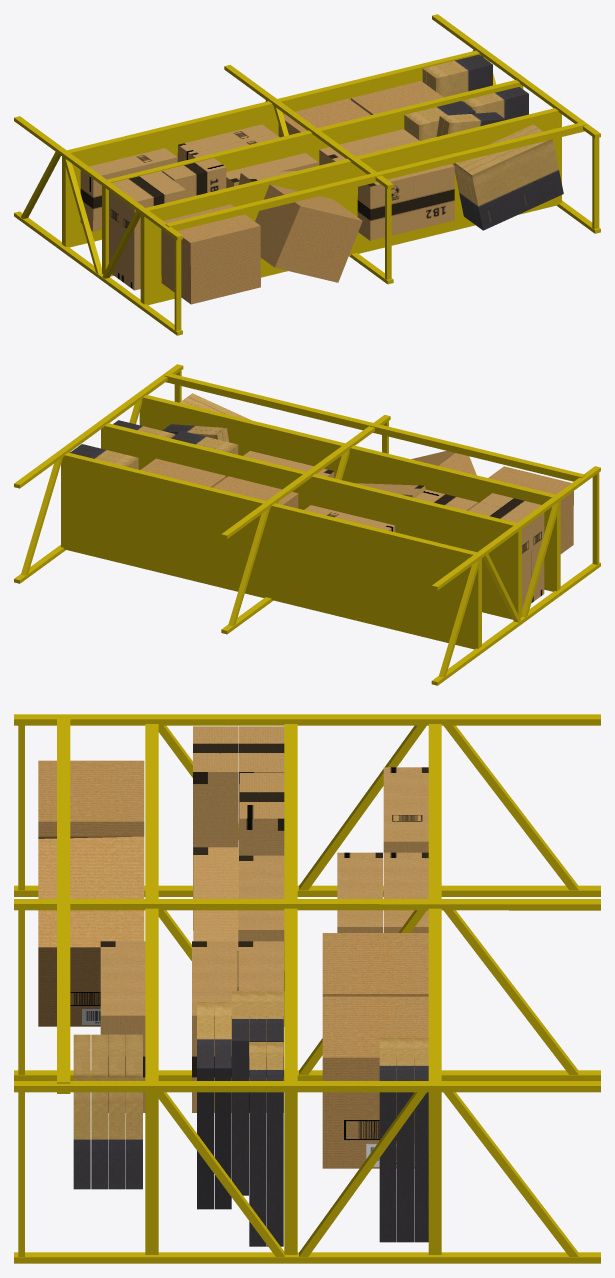
The model's file is shelf.obj.
The picture shows the model from 3 angles, top to bottom: view 1: azimuth 30°, elevation 25°; view 2: azimuth 150°, elevation 25°; view 3: azimuth 270°, elevation 25°; orthographic projection. The views are drawn at different scales.
Bounding box in the file's own units: 3.92 × 0.8796 × 2.61.
25 materials, 3 textured.
